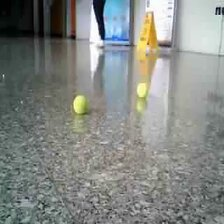tennis: (73, 95, 90, 114), (136, 83, 147, 97)
